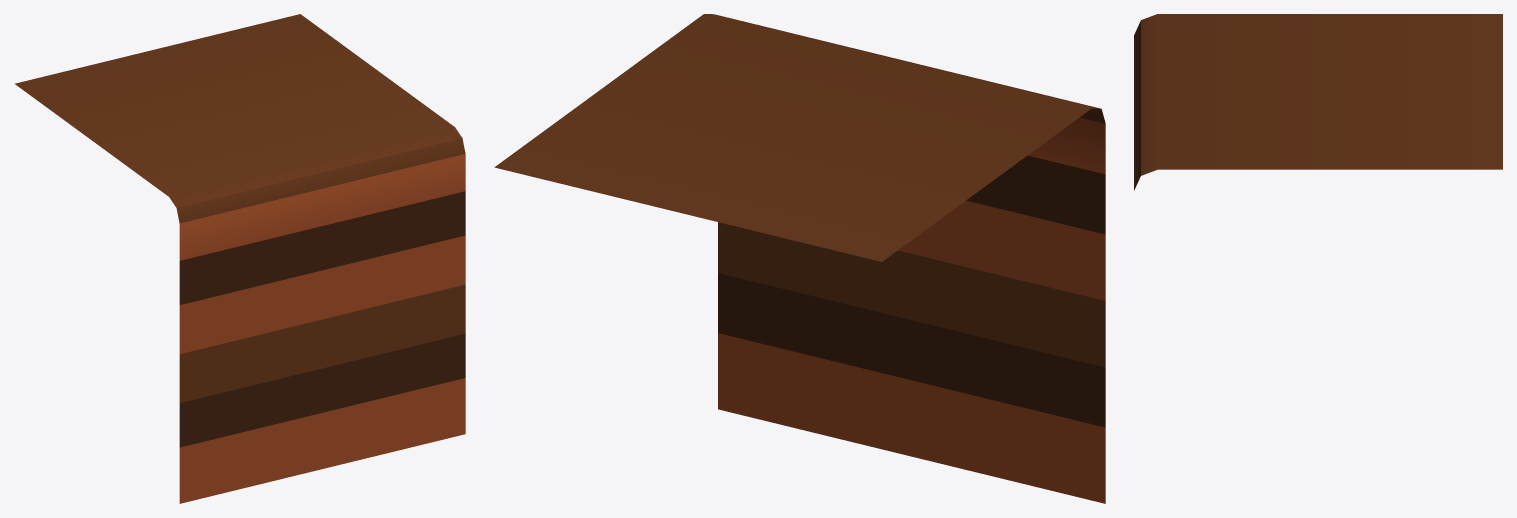
The model's file is Cube_Dirt_Side_Tall.fbx.
3 renders of one model, left to right at view 1: azimuth 30°, elevation 25°; view 2: azimuth 150°, elevation 25°; view 3: azimuth 270°, elevation 25°, orthographic. The views are drawn at different scales.
Parts seen in each view (by area): view 1: Cube_Dirt_Side_Tall; view 2: Cube_Dirt_Side_Tall; view 3: Cube_Dirt_Side_Tall.
Part boxes in pixels (box(x1,y1,x2,y2)): Cube_Dirt_Side_Tall: box(14, 14, 465, 503); Cube_Dirt_Side_Tall: box(494, 14, 1105, 503); Cube_Dirt_Side_Tall: box(1134, 14, 1502, 190).
Size of the model in its own units: 200 by 200 by 200.
